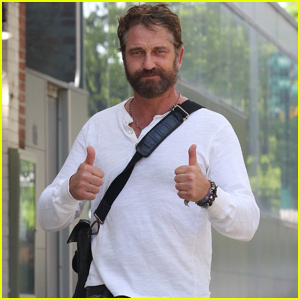thumbsUp: (170, 143, 213, 207), (70, 143, 106, 205)
